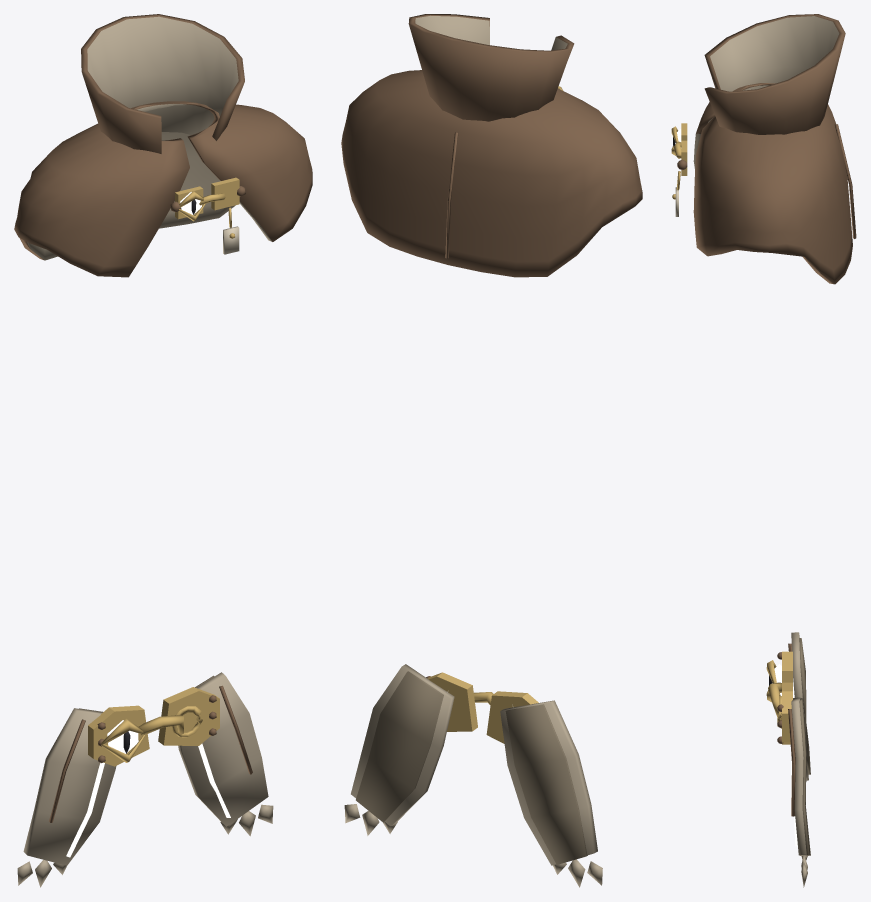
Rendered from coat-clasp.glb.
3 renders of one model, left to right at view 1: azimuth 30°, elevation 25°; view 2: azimuth 150°, elevation 25°; view 3: azimuth 270°, elevation 25°, orthographic. The views are drawn at different scales.
Visible parts, largest first — view 1: coat-clasp_worn, sway_scrap_r, sway_scrap_l, coat-clasp; view 2: coat-clasp_worn, sway_scrap_r, sway_scrap_l, coat-clasp; view 3: coat-clasp_worn, sway_scrap_l, coat-clasp, sway_scrap_r.
Boxes of the visible parts, bbox=[...] form: coat-clasp_worn: bbox=[14, 14, 312, 277]; sway_scrap_r: bbox=[17, 708, 116, 887]; sway_scrap_l: bbox=[178, 672, 273, 836]; coat-clasp: bbox=[88, 687, 219, 766]; coat-clasp_worn: bbox=[341, 14, 642, 277]; sway_scrap_r: bbox=[500, 700, 602, 887]; sway_scrap_l: bbox=[344, 664, 454, 835]; coat-clasp: bbox=[426, 672, 538, 743]; coat-clasp_worn: bbox=[671, 14, 856, 284]; sway_scrap_l: bbox=[788, 697, 810, 887]; coat-clasp: bbox=[766, 651, 792, 744]; sway_scrap_r: bbox=[788, 632, 810, 781].
Size of the model in its own units: 0.8185 by 2.26 by 0.4722.
